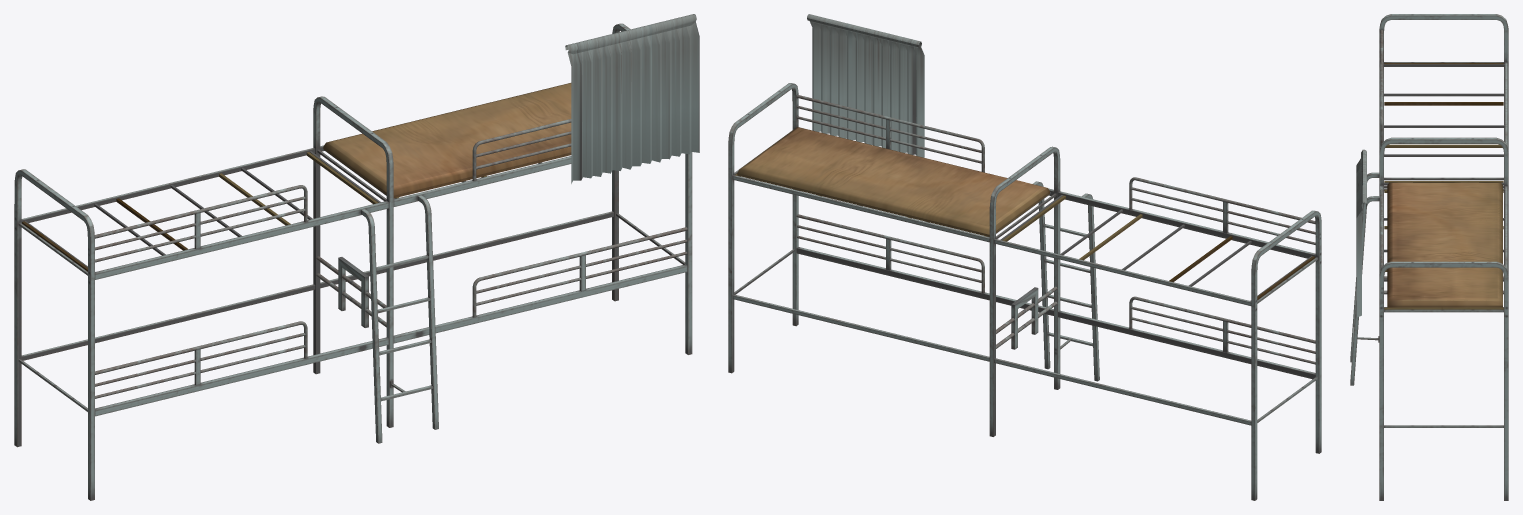
Rendered from Beds.fbx.
3 views of the same model, side by side, from view 1: azimuth 30°, elevation 25°; view 2: azimuth 150°, elevation 25°; view 3: azimuth 270°, elevation 25° (orthographic). The views are drawn at different scales.
Visible parts, largest first — view 1: group7_shuangrenchuang_t_0.001, group7_shuangrenchuang_t_0.003, group7_shuangrenchuang_t_0.002, group7_shuangrenchuang_t_0.004; view 2: group7_shuangrenchuang_t_0.001, group7_shuangrenchuang_t_0.004, group7_shuangrenchuang_t_0.003, group7_shuangrenchuang_t_0.002; view 3: group7_shuangrenchuang_t_0.004, group7_shuangrenchuang_t_0.001, group7_shuangrenchuang_t_0.003.
Part boxes in pixels (left/top/right/bottom): group7_shuangrenchuang_t_0.001: left=14, top=23, right=692, bottom=500; group7_shuangrenchuang_t_0.003: left=565, top=14, right=699, bottom=183; group7_shuangrenchuang_t_0.002: left=21, top=211, right=687, bottom=416; group7_shuangrenchuang_t_0.004: left=323, top=83, right=571, bottom=198; group7_shuangrenchuang_t_0.001: left=728, top=83, right=1321, bottom=500; group7_shuangrenchuang_t_0.004: left=737, top=127, right=1049, bottom=236; group7_shuangrenchuang_t_0.003: left=807, top=14, right=924, bottom=157; group7_shuangrenchuang_t_0.002: left=732, top=214, right=1315, bottom=425; group7_shuangrenchuang_t_0.004: left=1387, top=182, right=1502, bottom=307; group7_shuangrenchuang_t_0.001: left=1350, top=14, right=1508, bottom=500; group7_shuangrenchuang_t_0.003: left=1356, top=149, right=1366, bottom=317.
Size of the model in its own units: 441 by 244 by 118.
1 material, 1 textured.
